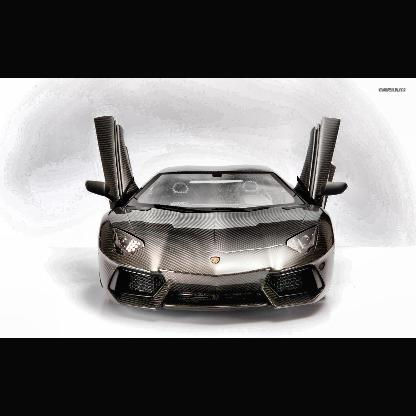Lamborghini Aventador Coupe 2012: (86, 116, 349, 314)
